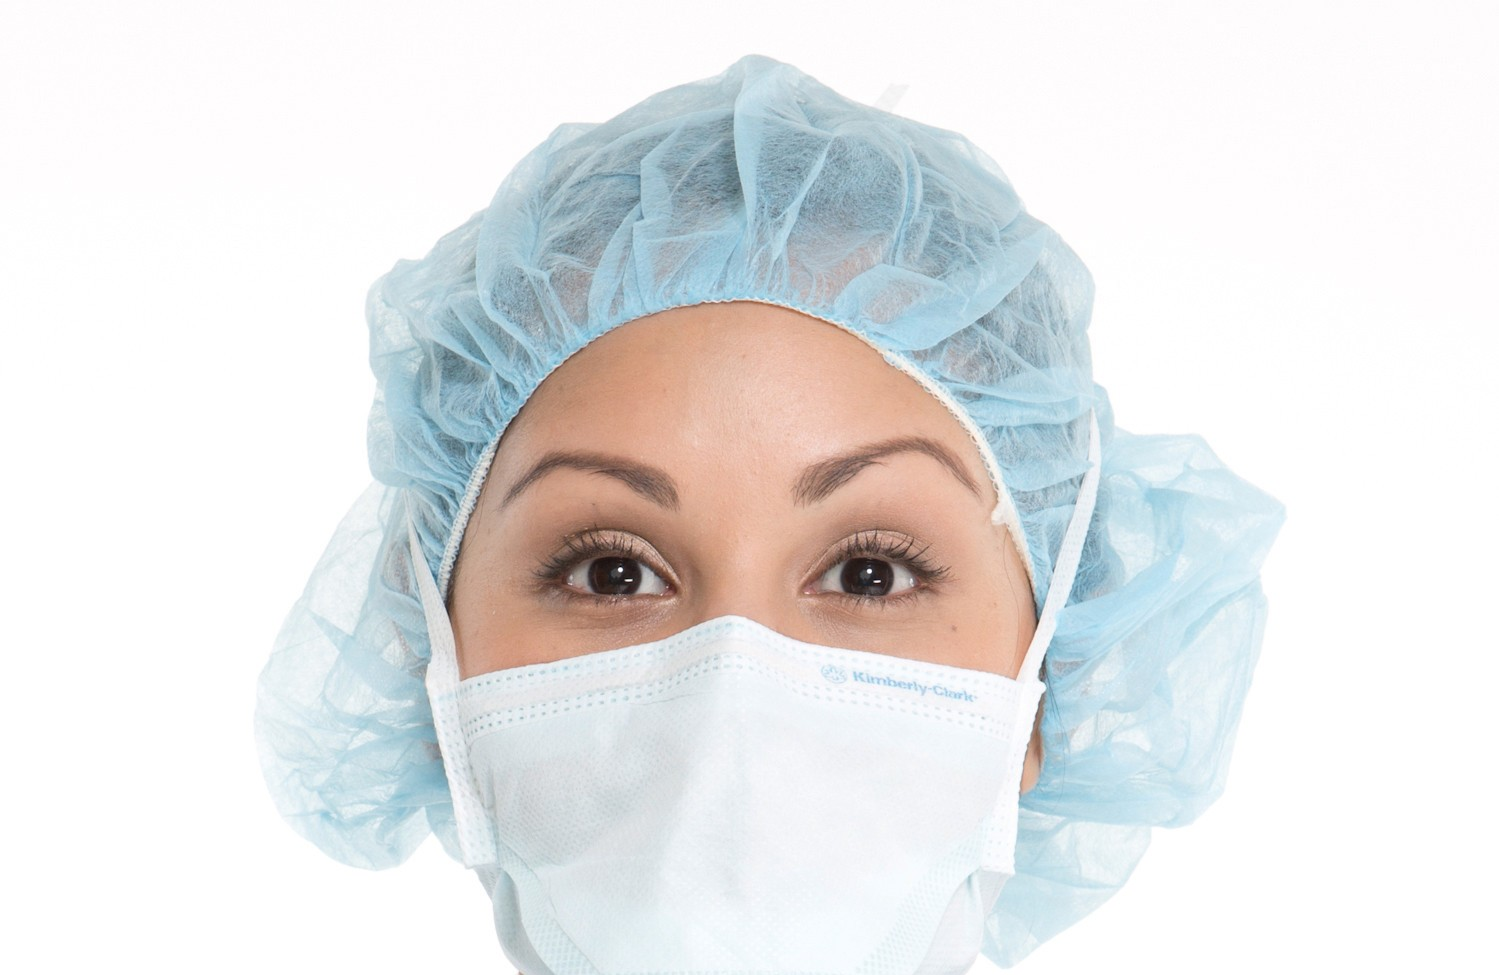with_mask: (414, 282, 1082, 975)
